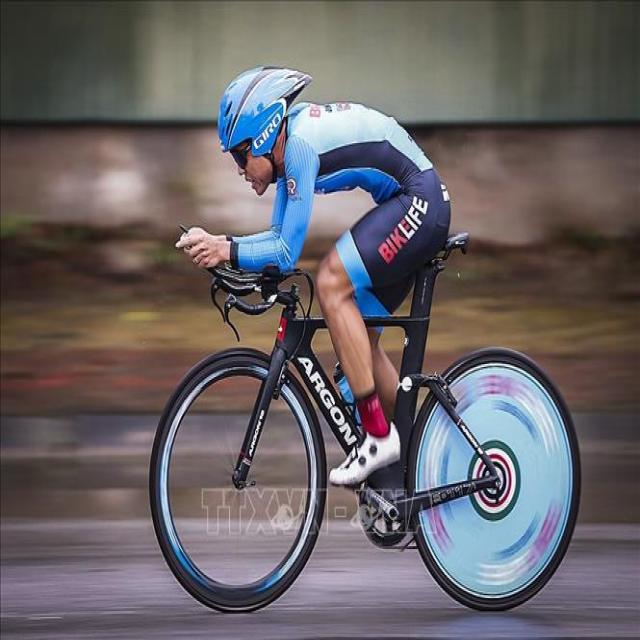Helmet: (210, 53, 314, 188)
